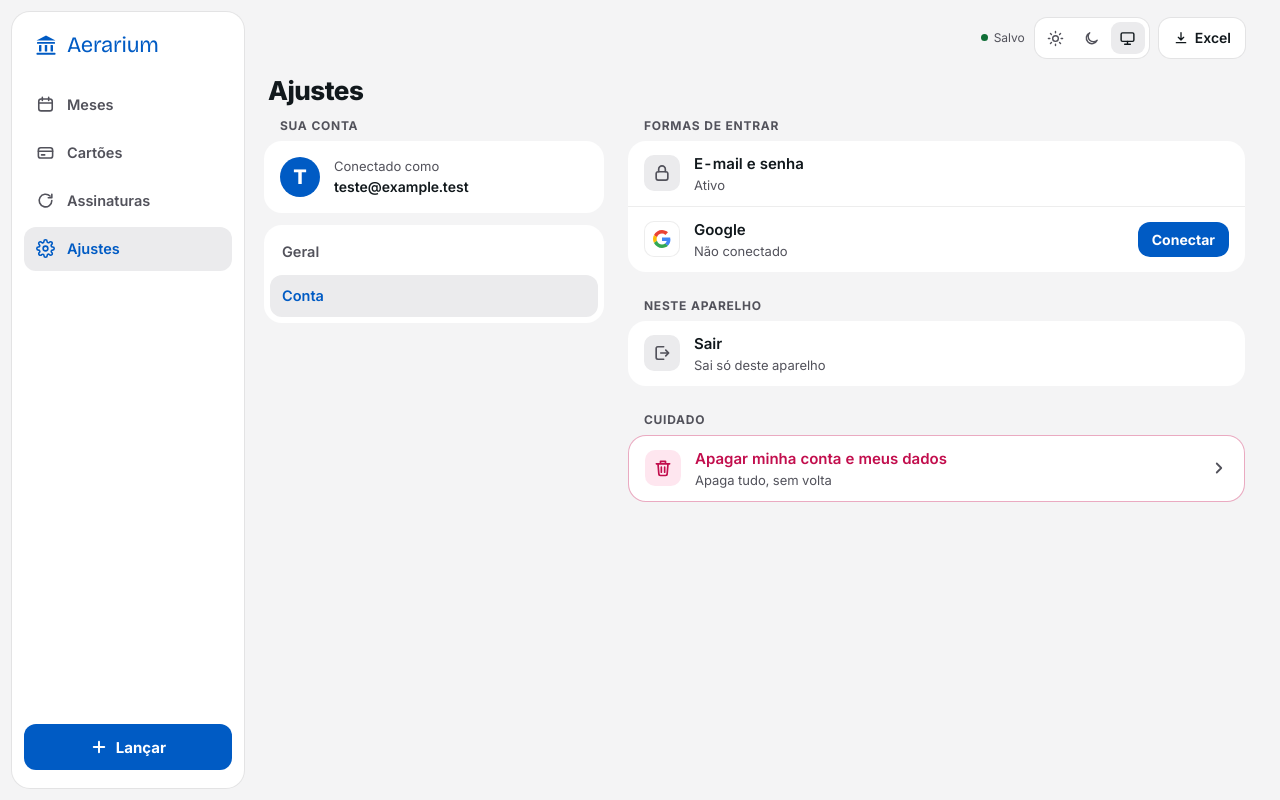
apagar minha conta › só libera depois de digitar APAGAR
The image size is (1280, 800).
Click the button "Apagar minha conta e meus dados" at (936, 468), box [629,436,1244,501]
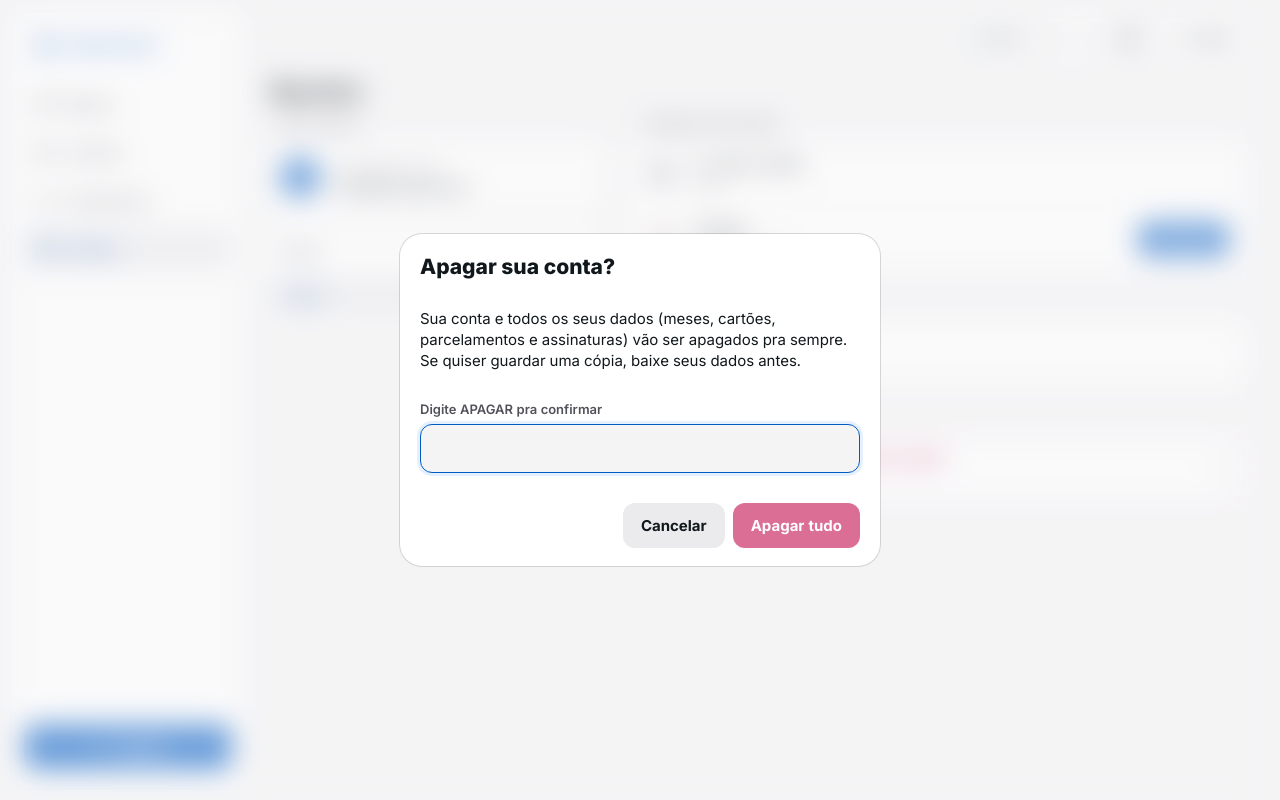
Now the button "Apagar tudo" is disabled, box [733,503,860,548]
Type "apag" into the field labelled "Digite APAGAR pra confirmar" at (640, 449), box [420,424,860,473]
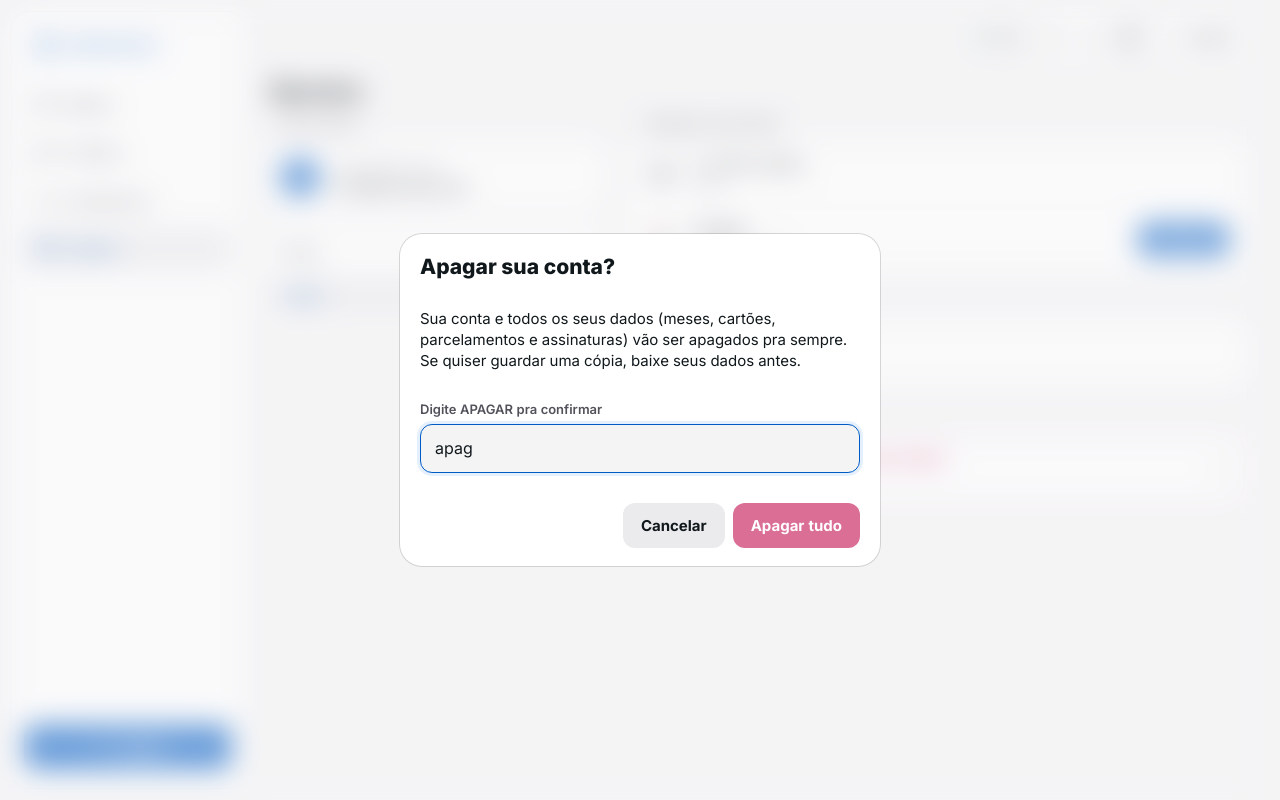
Now the button "Apagar tudo" is disabled, box [733,503,860,548]
Replace the text in the field labelled "Digite APAGAR pra confirmar" with "Apagar" at (640, 449), box [420,424,860,473]
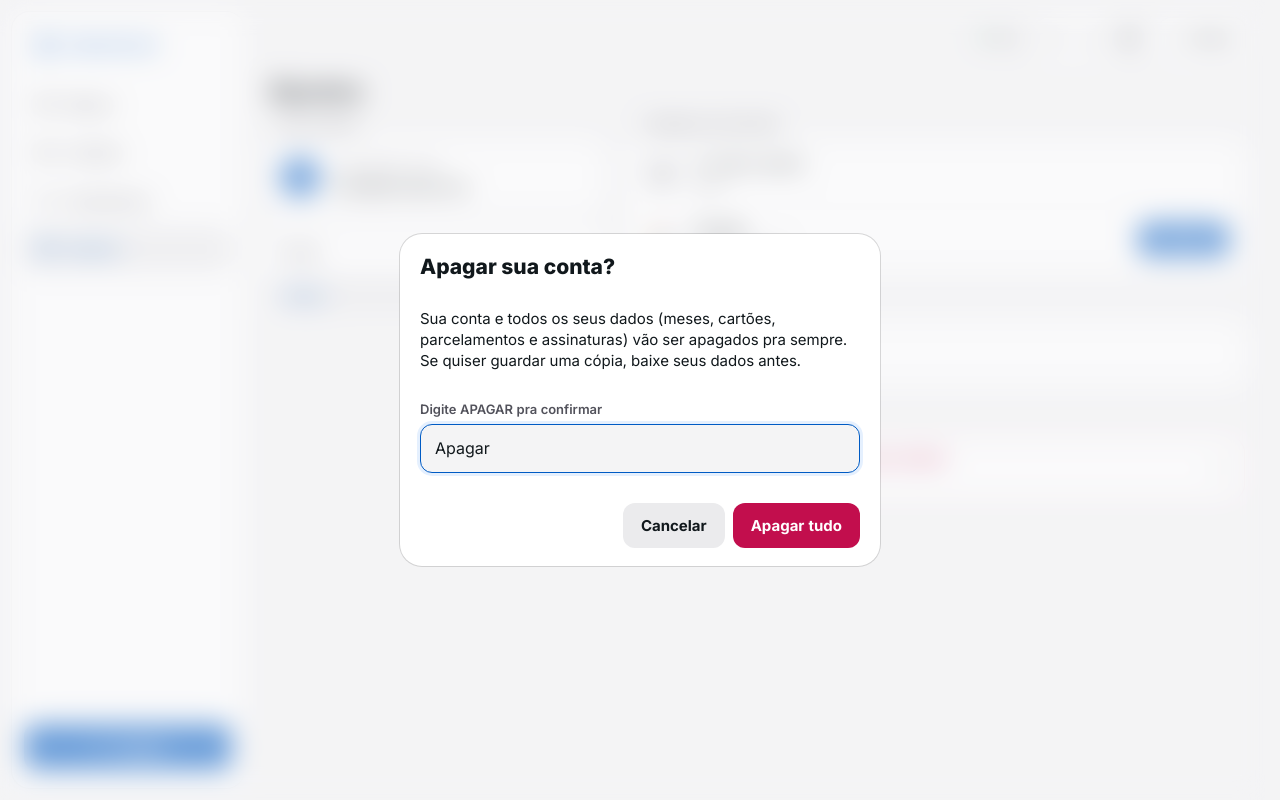
Now the button "Apagar tudo" is enabled, box [733,503,860,548]
